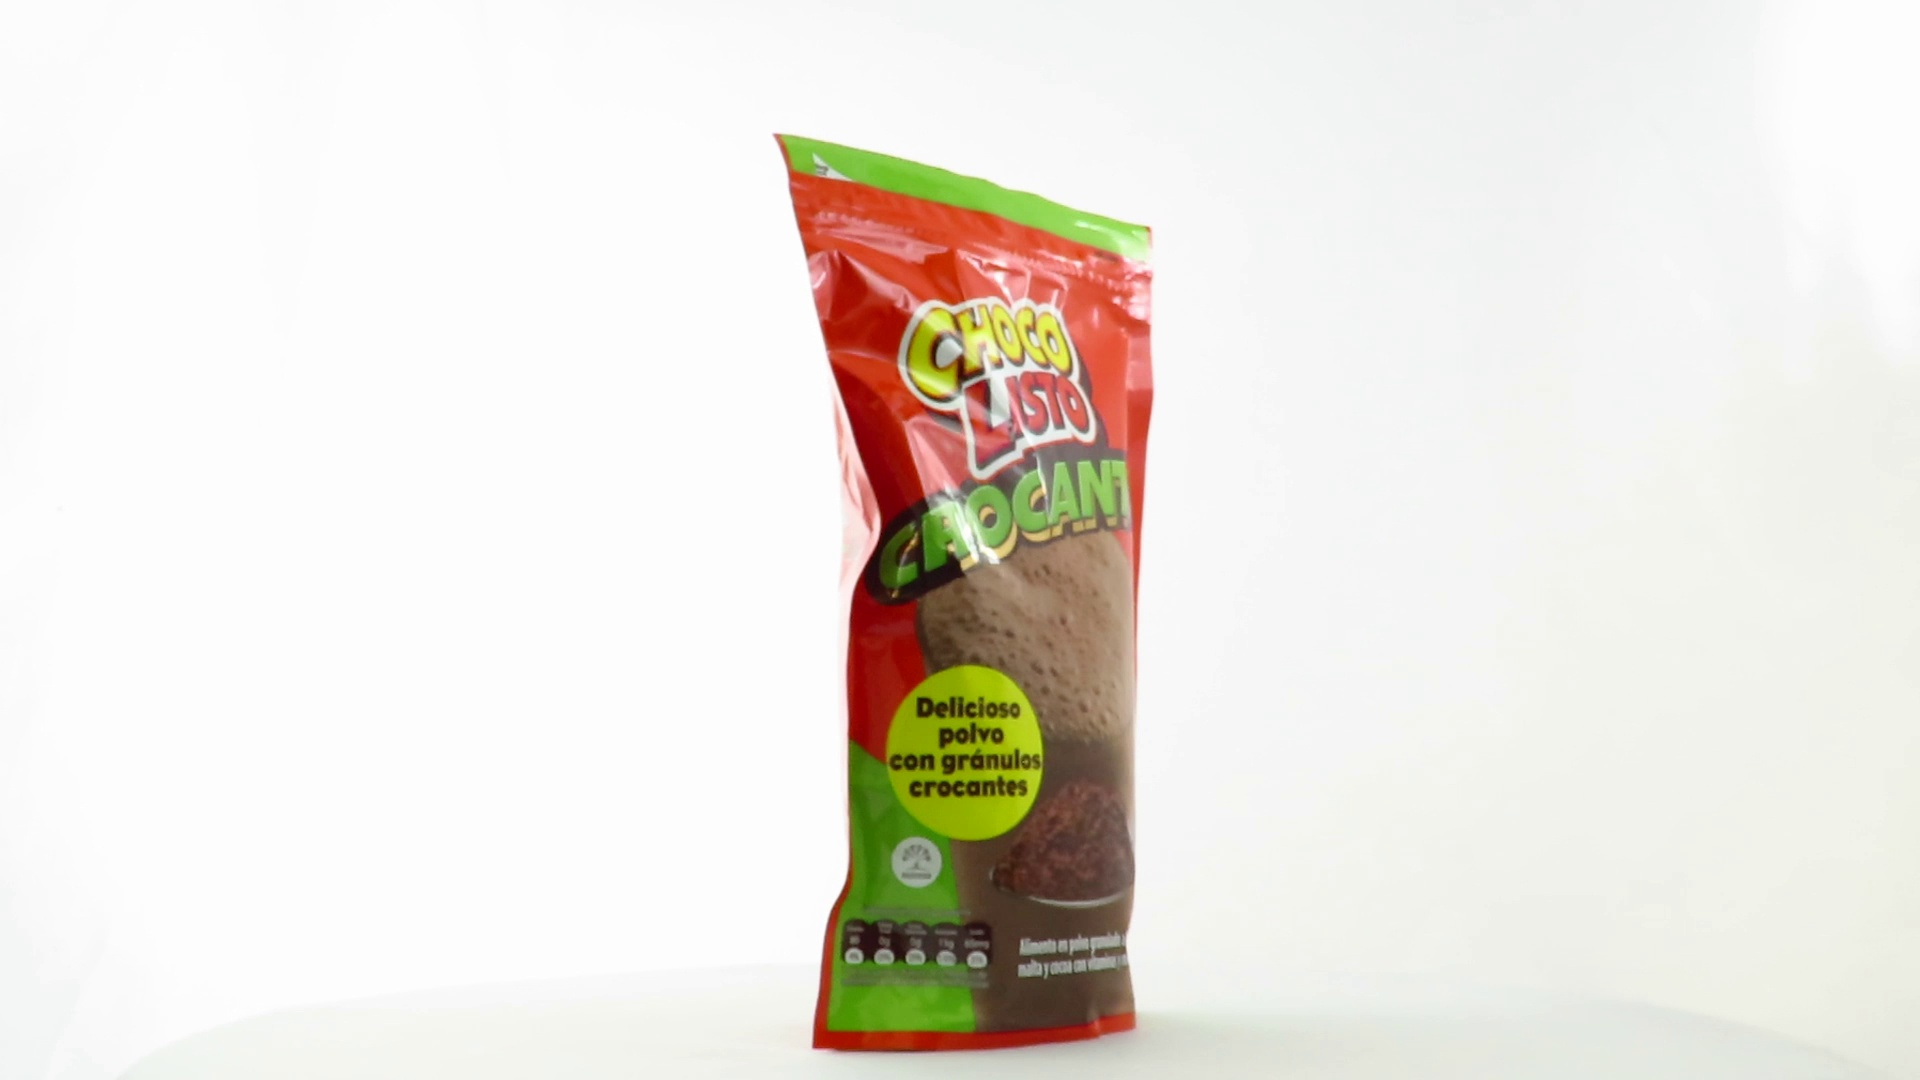COL0170102DYP50000: (767, 128, 1160, 1059)
